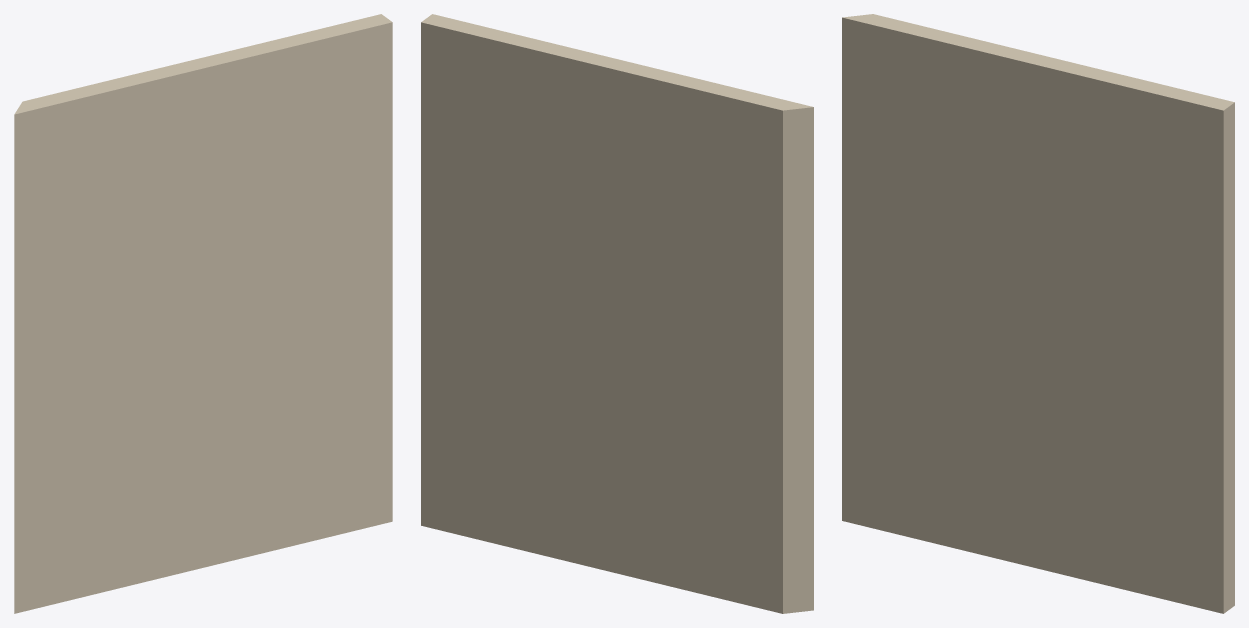
Rendered from wall-21.glb.
3 views of the same model, side by side, from view 1: azimuth 30°, elevation 25°; view 2: azimuth 150°, elevation 25°; view 3: azimuth 330°, elevation 25° (orthographic).
Size of the model in its own units: 6.35 by 8 by 0.3282.
